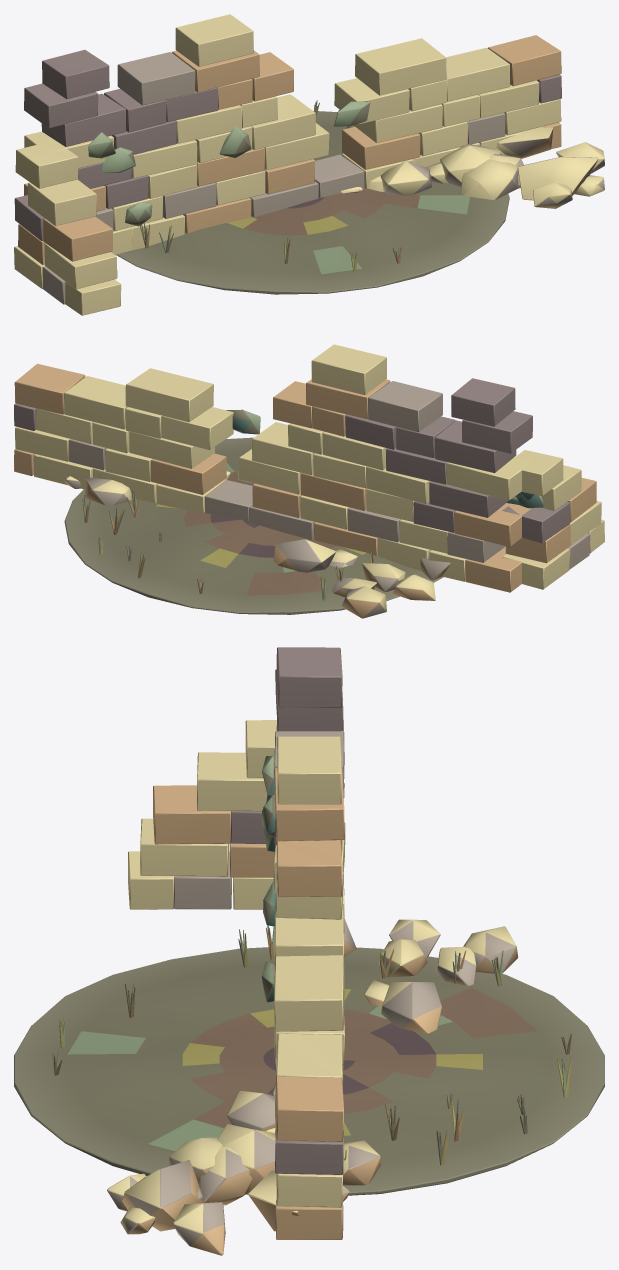
The model's file is ruined_masonry_v1.glb.
3 views of the same model, one above another, from view 1: azimuth 30°, elevation 25°; view 2: azimuth 150°, elevation 25°; view 3: azimuth 270°, elevation 25° (orthographic). The views are drawn at different scales.
Parts seen in each view (by area): view 1: Body; view 2: Body; view 3: Body.
Boxes of the visible parts, x1=… form: Body: x1=14, y1=14, x2=604, y2=315; Body: x1=14, y1=344, x2=604, y2=618; Body: x1=14, y1=647, x2=604, y2=1255.
Size of the model in its own units: 0.9724 by 0.3451 by 0.6526.
